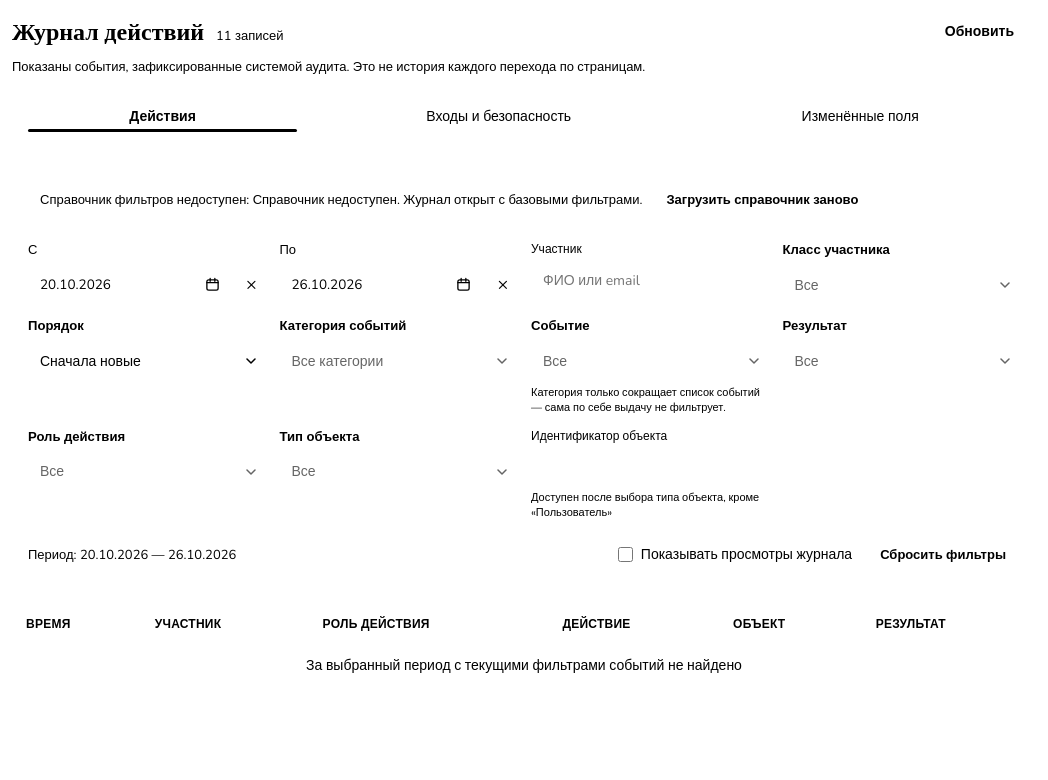
ошибка справочника отделена от ошибки списка › есть отдельная кнопка повторной загрузки справочника
Check: the table is shown, box [12, 604, 1036, 687]
Click the button "Загрузить справочник заново" at [762, 200], box [652, 183, 872, 217]
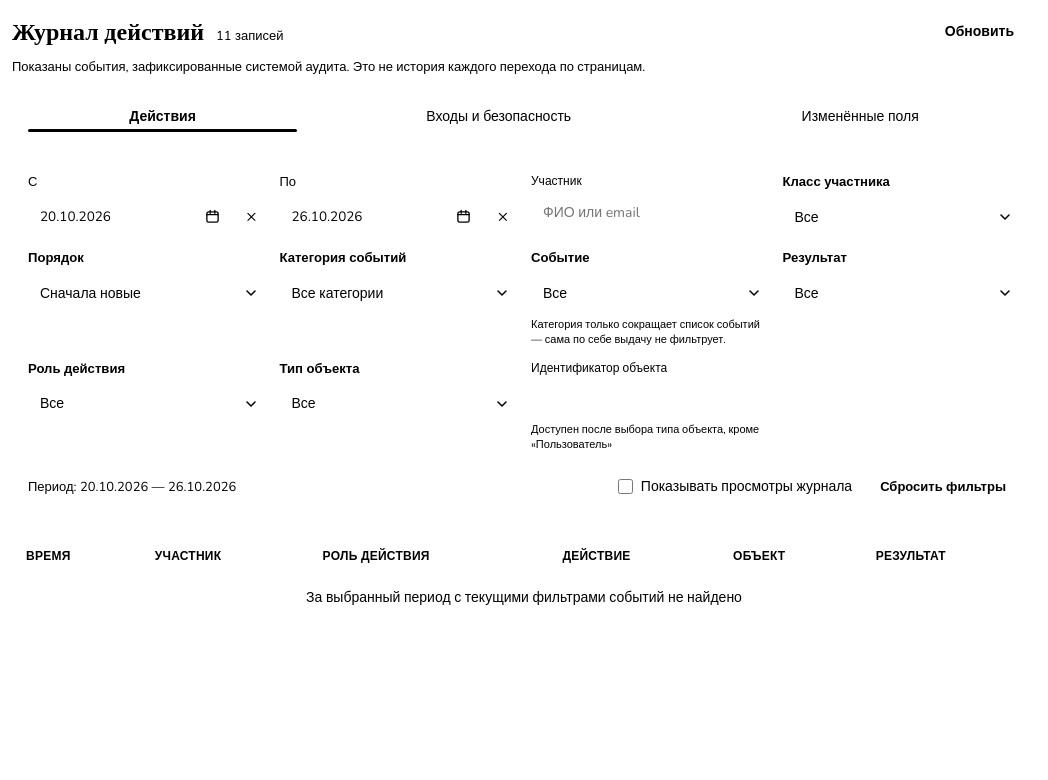
Check: the text "Справочник фильтров недоступен" is gone
